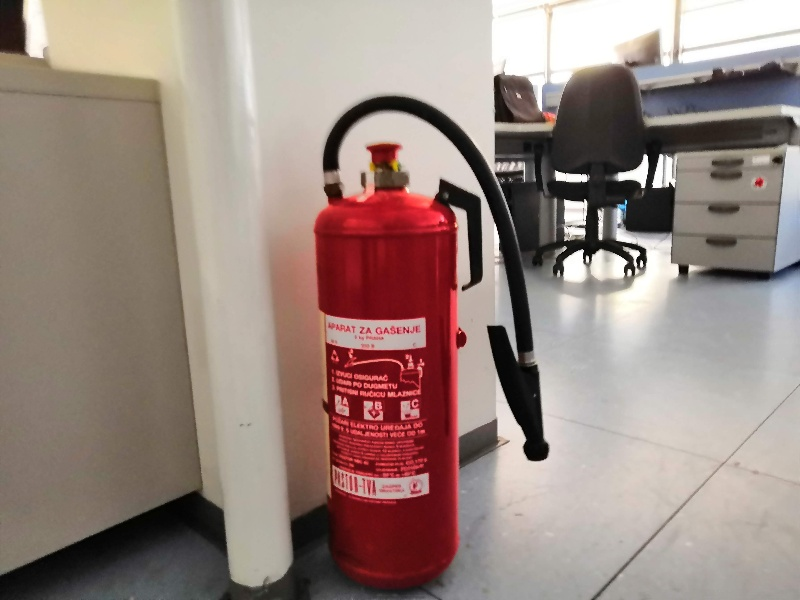vataparat: (310, 98, 552, 590)
